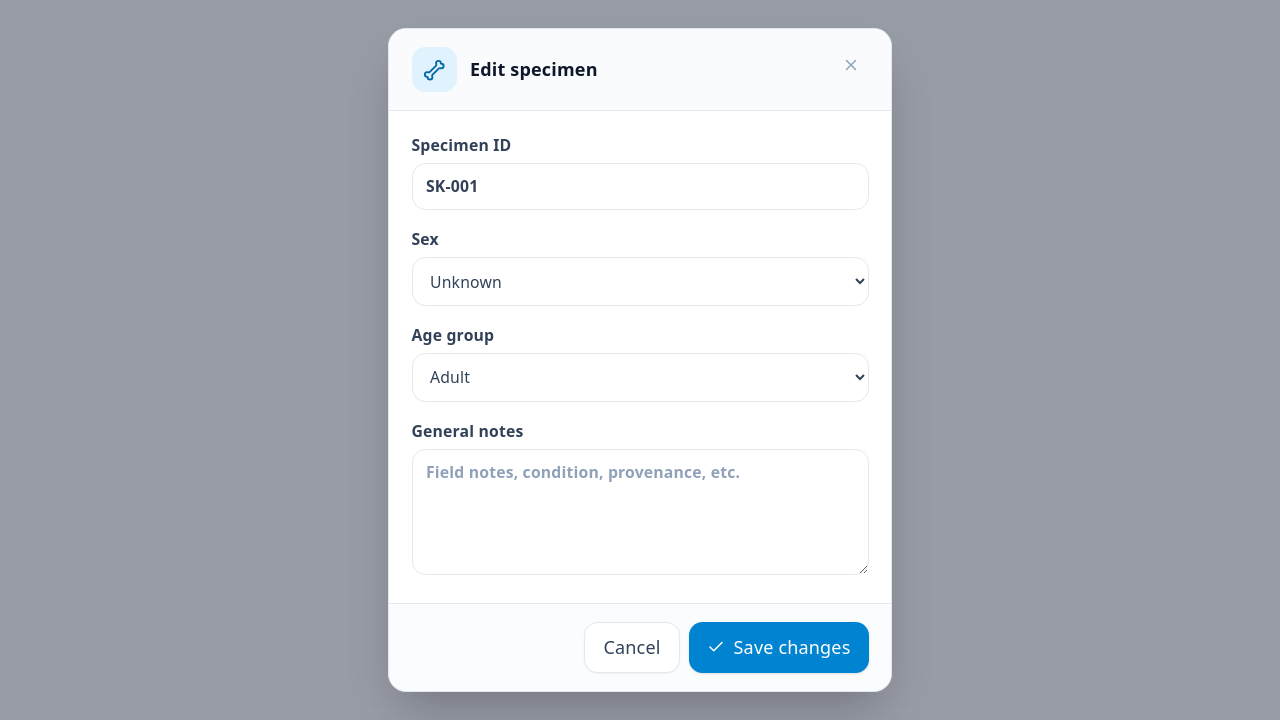
Test: SpecimenEditPopup › stays open and says so when the change could not be saved
Click the button "Save changes".
click(778, 647)  # box [688,622,868,673]
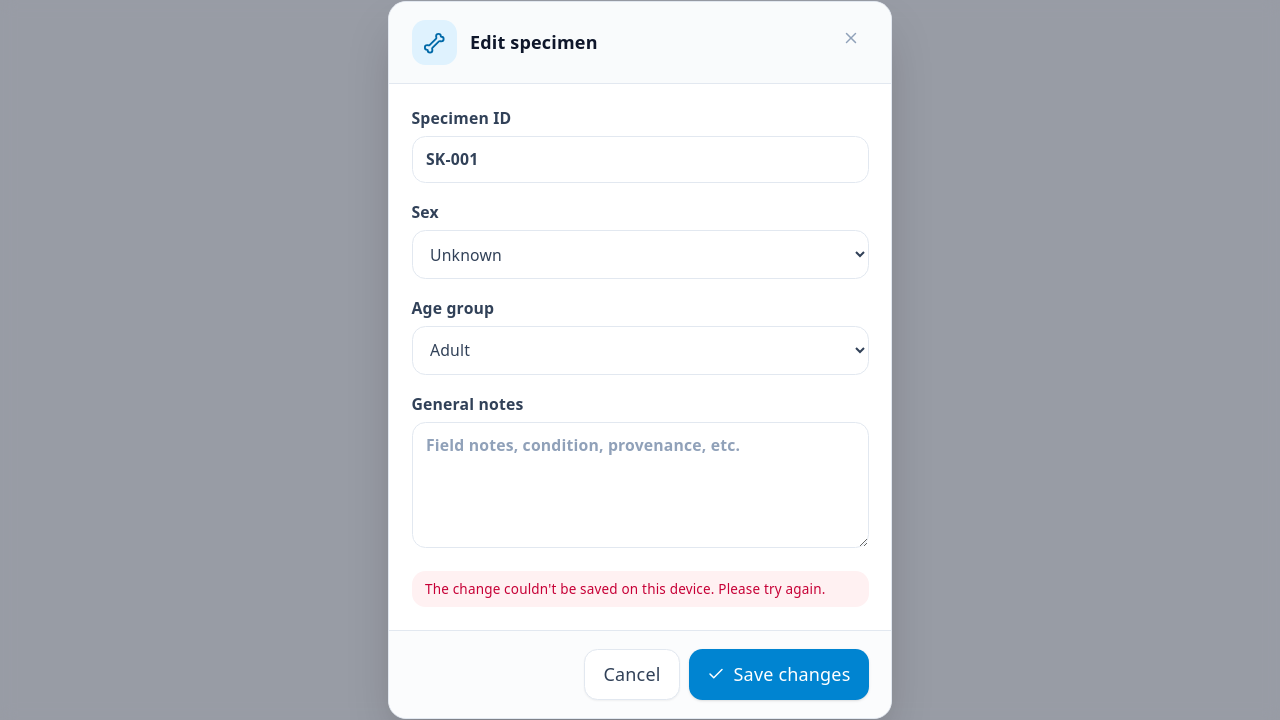
Check: the button "Save changes" is enabled, box [688,649,868,700]
Check: the message shows "The change couldn't be saved on this device.", box [425,580,826,598]
